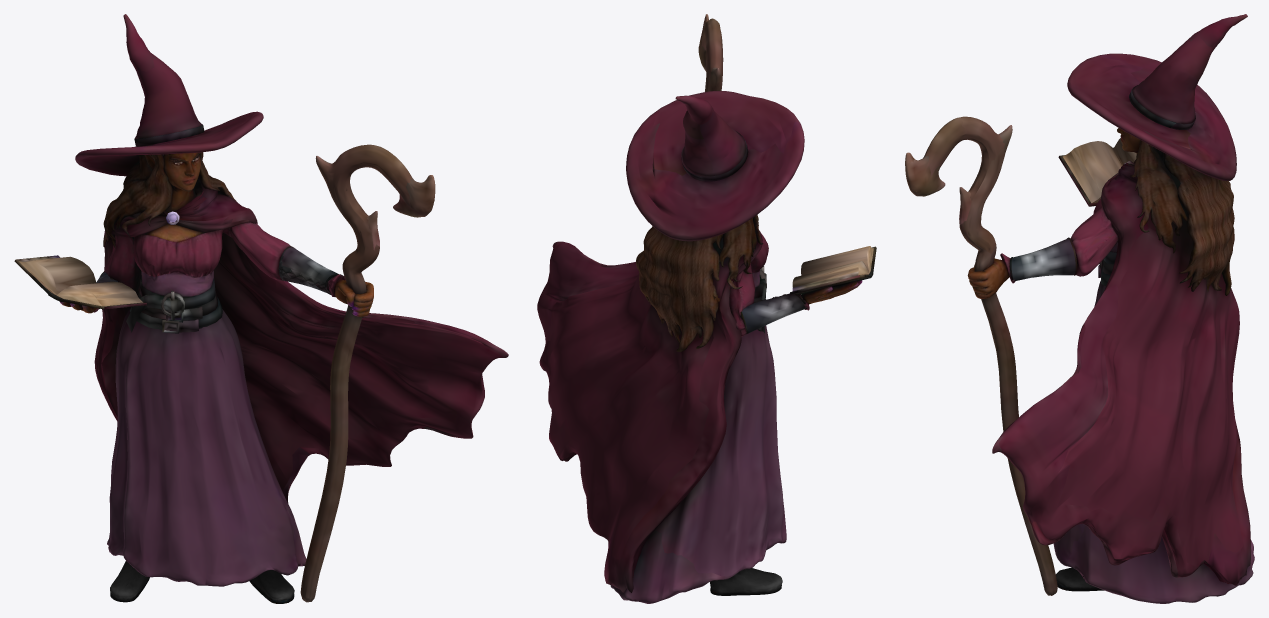
File: MZ4250 - Elf Wizard Female_2 2025.glb
3 renders of one model, left to right at view 1: azimuth 30°, elevation 25°; view 2: azimuth 150°, elevation 25°; view 3: azimuth 270°, elevation 25°, orthographic. The views are drawn at different scales.
Parts seen in each view (by area): view 1: Body.002; view 2: Body.002; view 3: Body.002.
Part boxes in pixels (x1,y1,x2,y2): Body.002: [14, 14, 508, 603]; Body.002: [537, 14, 876, 603]; Body.002: [905, 14, 1254, 603].
Bounding box in the file's own units: 84.65 × 107 × 62.69.
2 materials, 2 textured.
